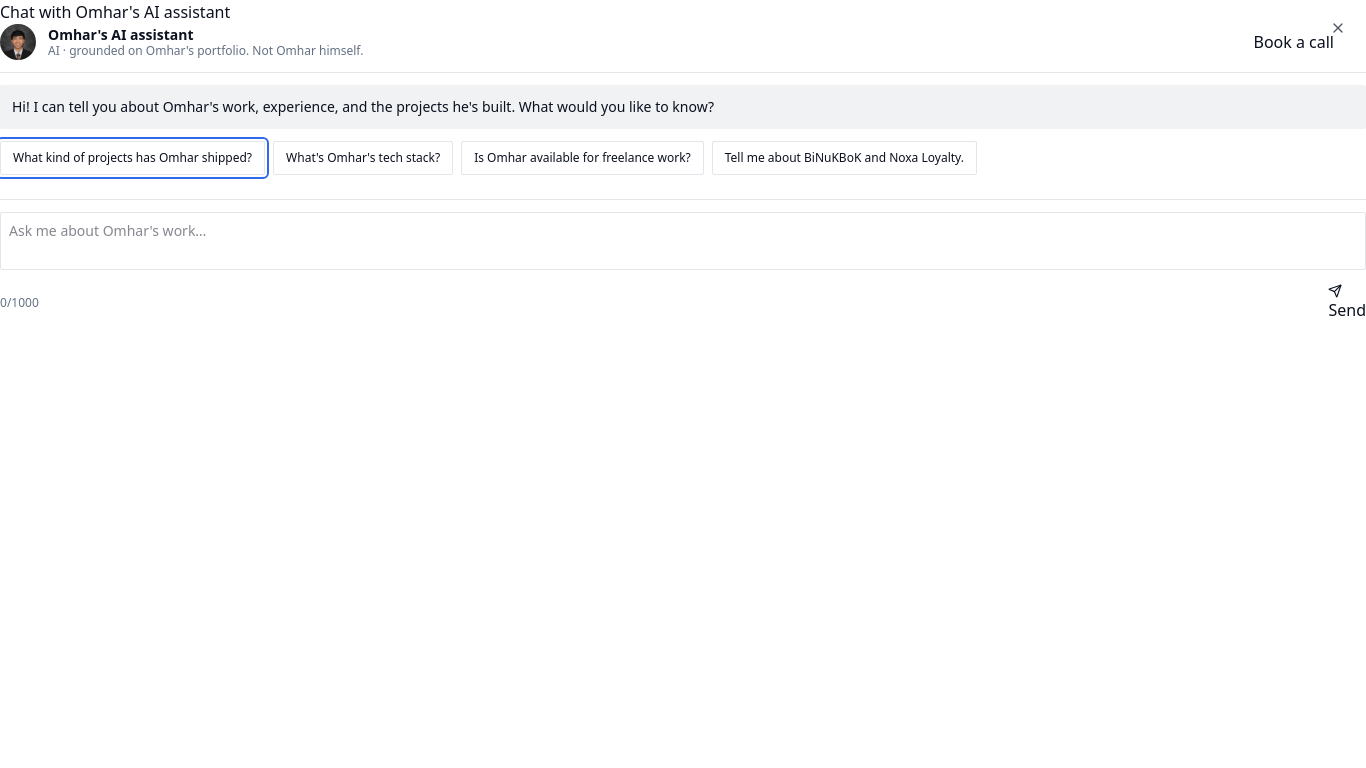
ChatPanel › streams the assistant reply after the visitor sends a message
Type "what does he build?" into the text box with placeholder "Ask me about Omhar's work…".
click(683, 241); type("what does he build?")  # box [0, 212, 1365, 270]
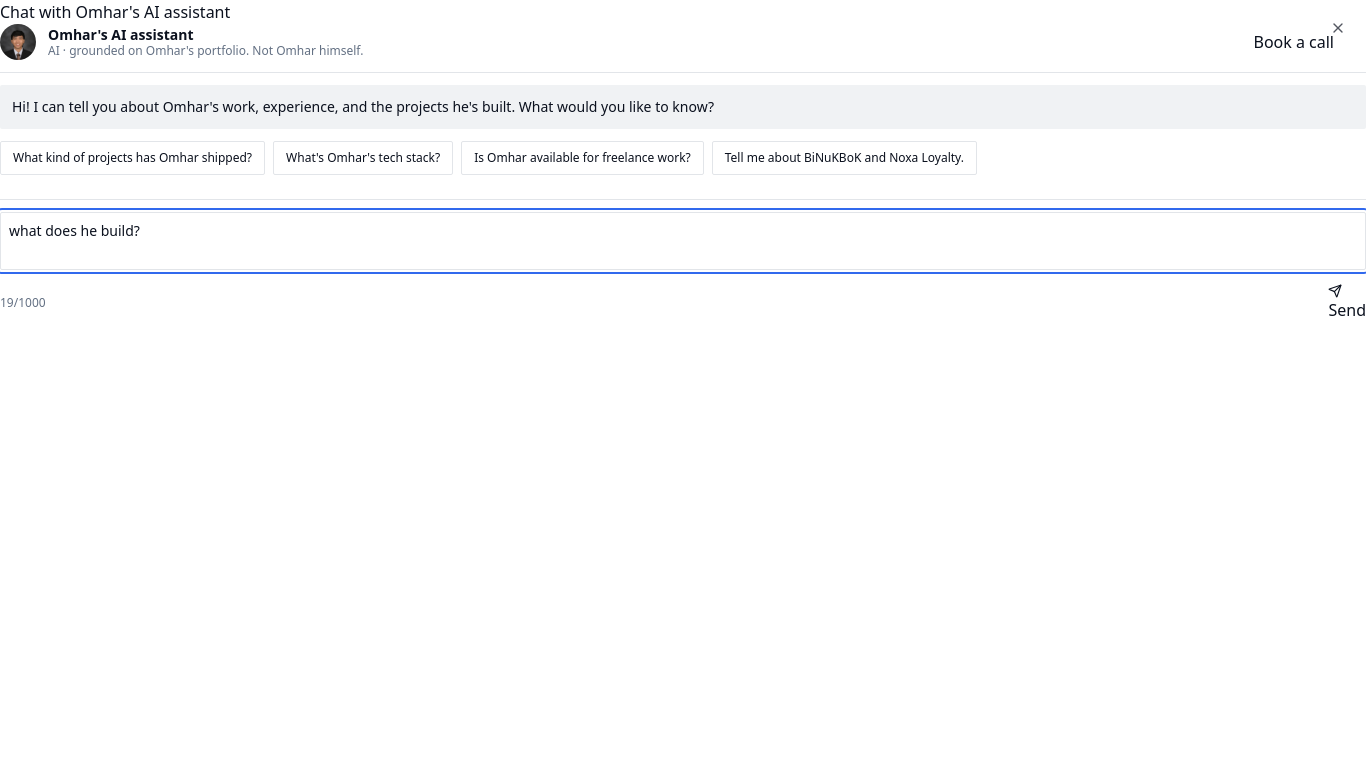
Press Enter
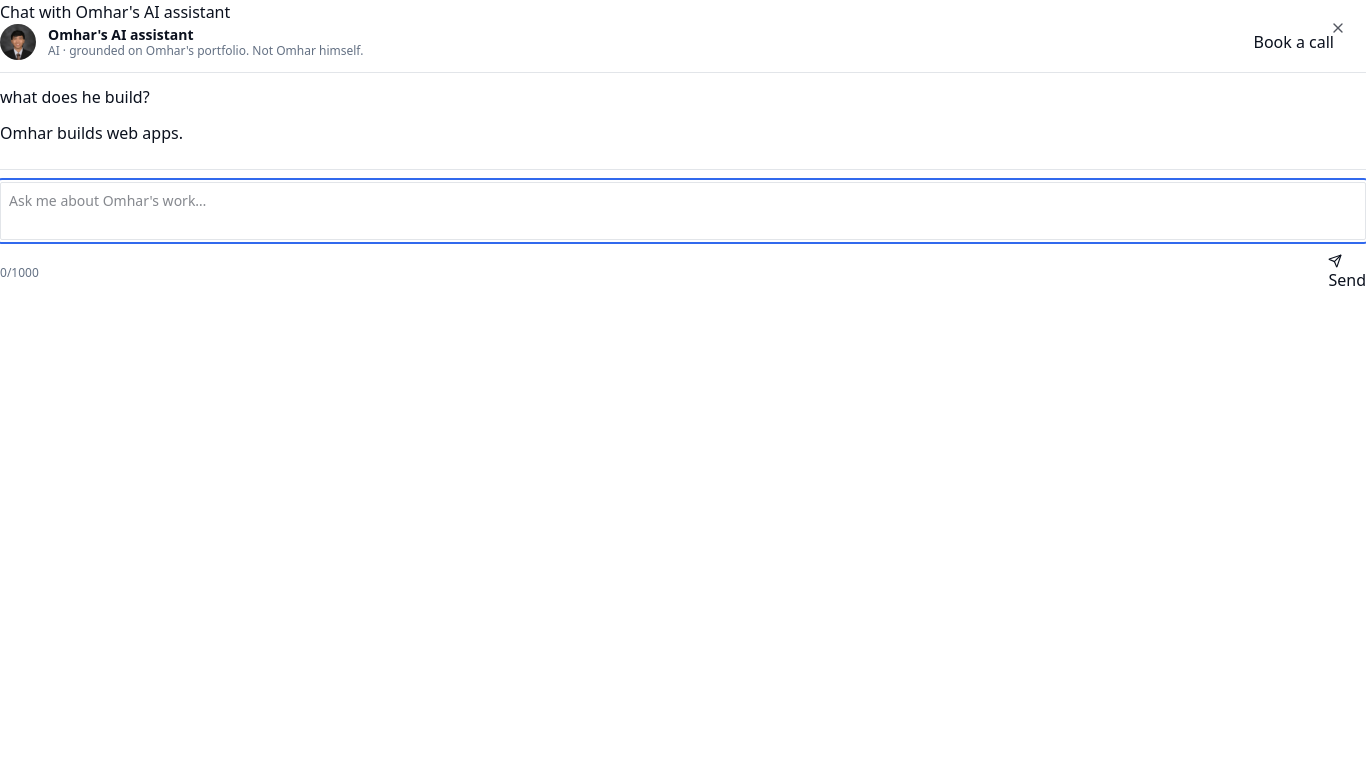
Now the text "Omhar builds web apps." is shown, box [0, 122, 183, 144]
Now the text "what does he build?" is shown, box [0, 86, 150, 108]
